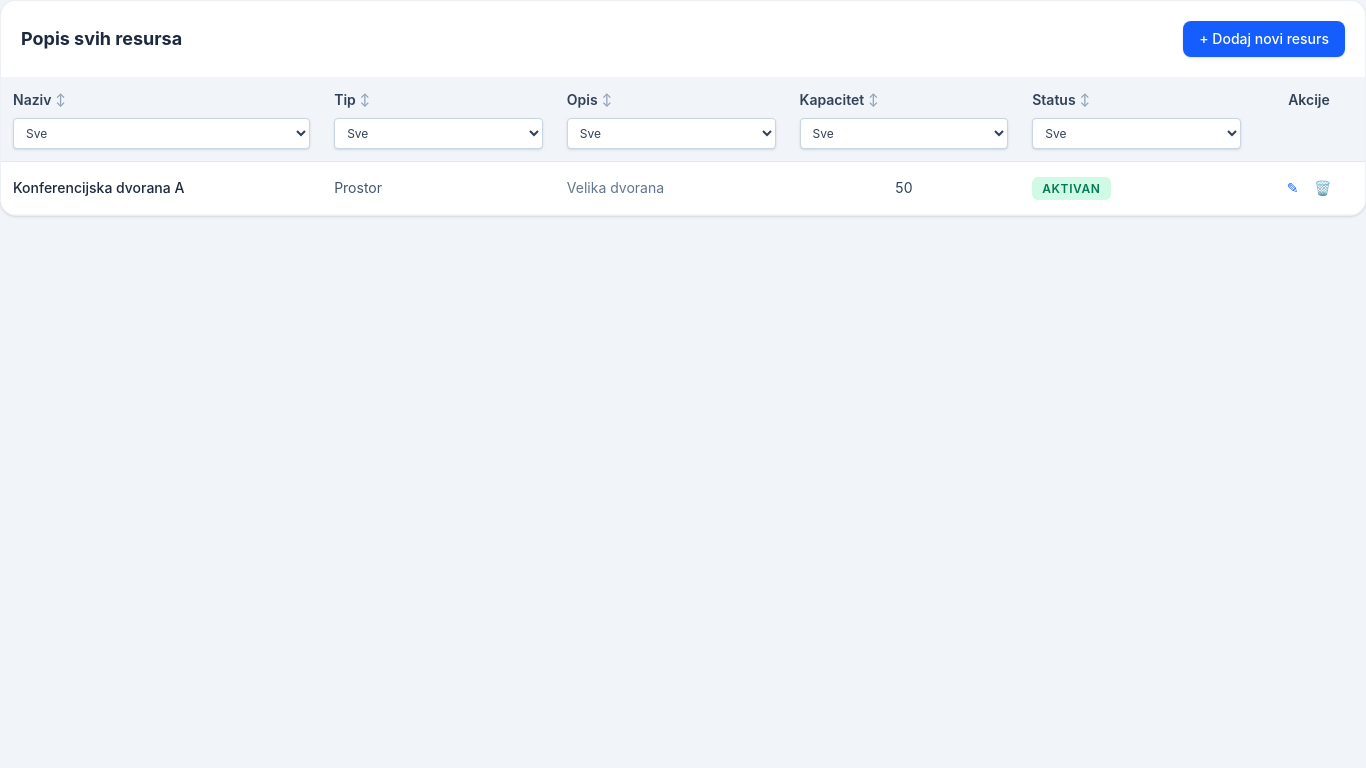
Test: ResourcesTable Komponenta › Učitava i prikazuje popis resursa te otvara modal za dodavanje
expect the text "Učitavanje resursa..." is shown: met, box [0,0,1365,216]
Click the button "+ Dodaj novi resurs" at (1264, 39), box [1183,21,1345,57]
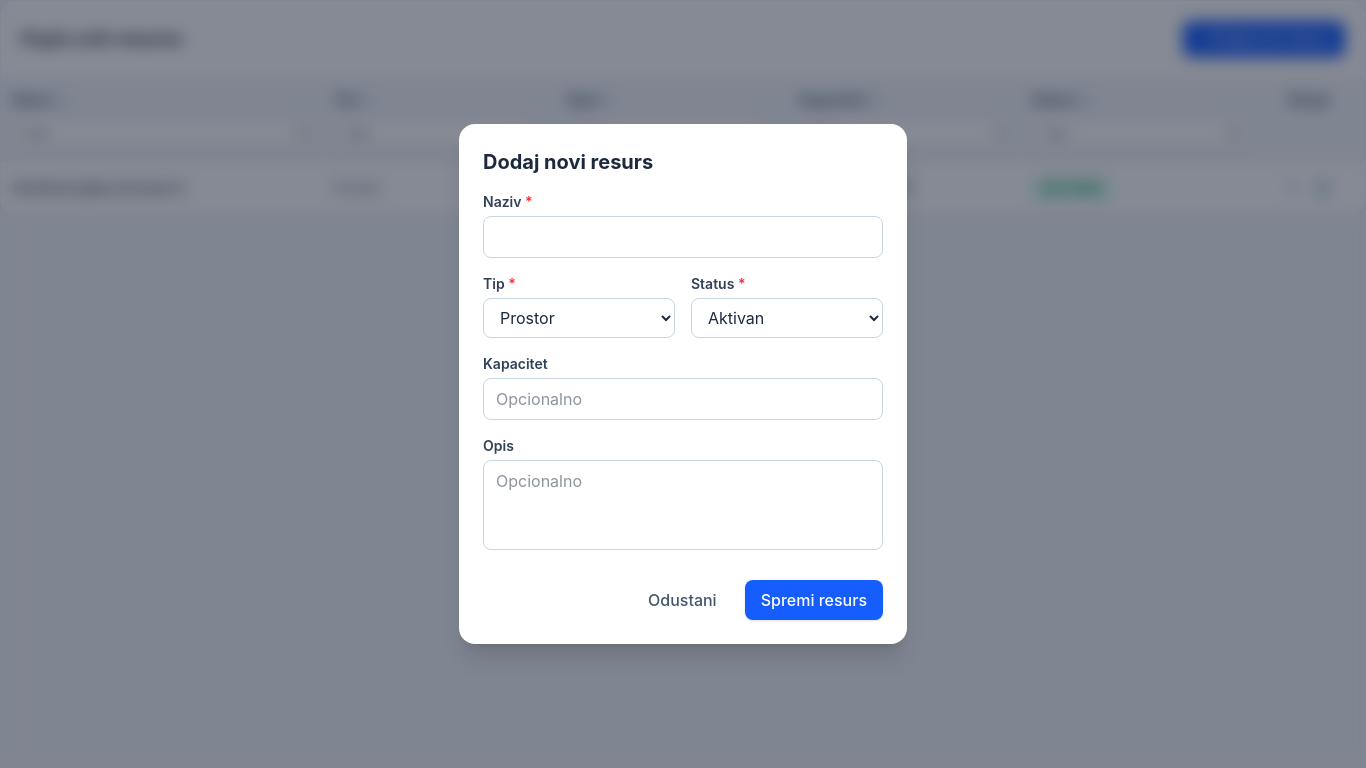
expect the heading "Dodaj novi resurs" is shown: met, box [483,150,653,174]
